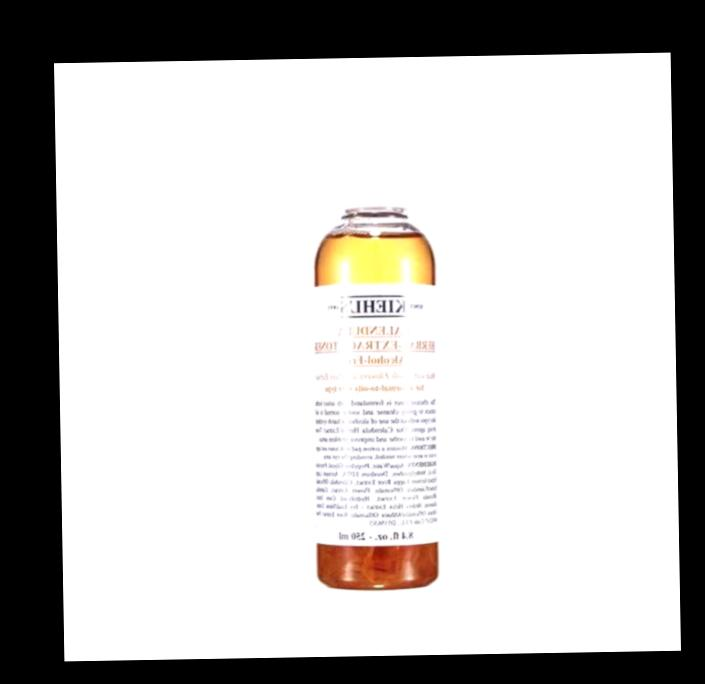cosmetic: (310, 127, 438, 593)
